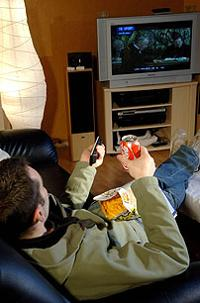person: (1, 128, 200, 303)
